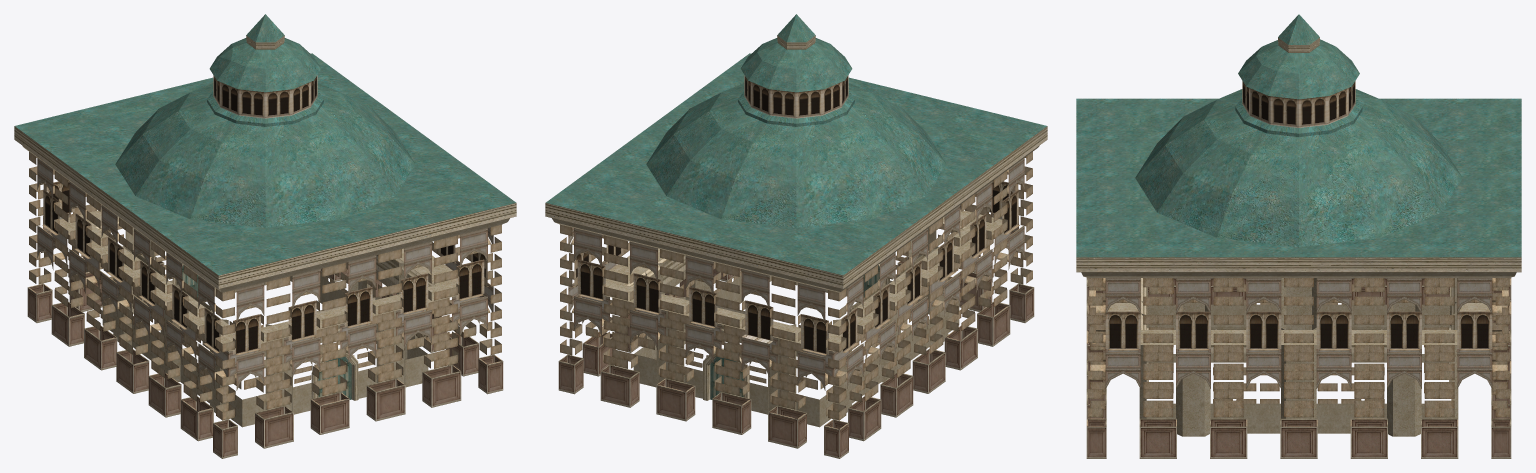
File: thm_nboo_thed_imprv_building_s05_l0.fbx
3 views of the same model, side by side, from view 1: azimuth 30°, elevation 25°; view 2: azimuth 150°, elevation 25°; view 3: azimuth 270°, elevation 25° (orthographic). The views are drawn at different scales.
Visible parts, largest first — view 1: mesh_node; view 2: mesh_node; view 3: mesh_node.
Part boxes in pixels (<box>): mesh_node: <box>14,14,516,458</box>; mesh_node: <box>545,14,1047,458</box>; mesh_node: <box>1076,14,1521,458</box>.
Size of the model in its own units: 24 by 26.14 by 28.5.
